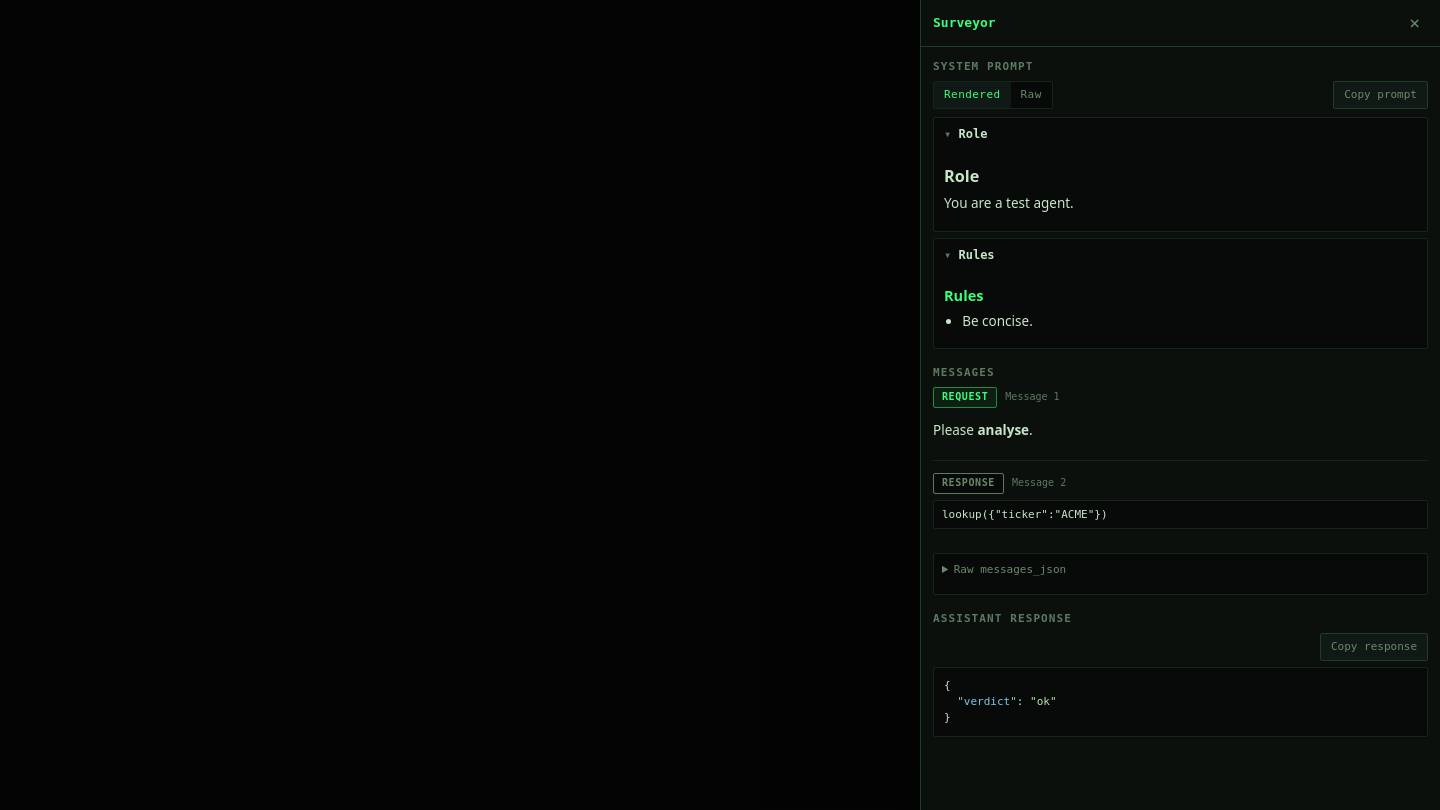
Scenario: AgentPanel › toggles system prompt between rendered sections and raw
Expected: the element with class "system-prompt-details" that starts with "Role" is shown, [933,117,1428,232]
Click the button "Raw": coordinates (1031, 95) [1010,82,1052,108]
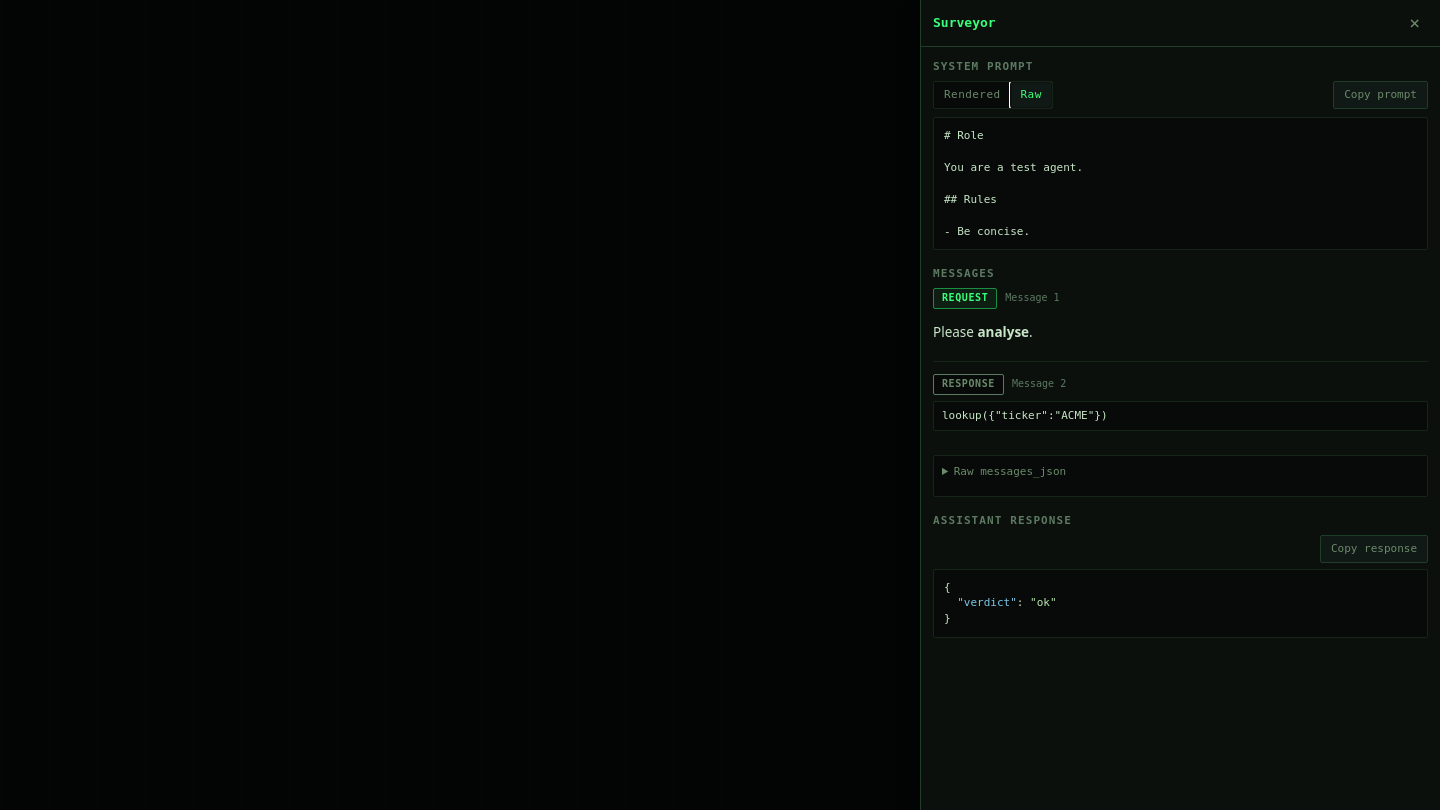
Result: the text "# Role You are a test agent. ## Rules - Be concise." is shown at [933,117,1428,250]
Result: the element with class "system-prompt-details" is gone
Click the button "Rendered": coordinates (972, 95) [934,82,1010,108]
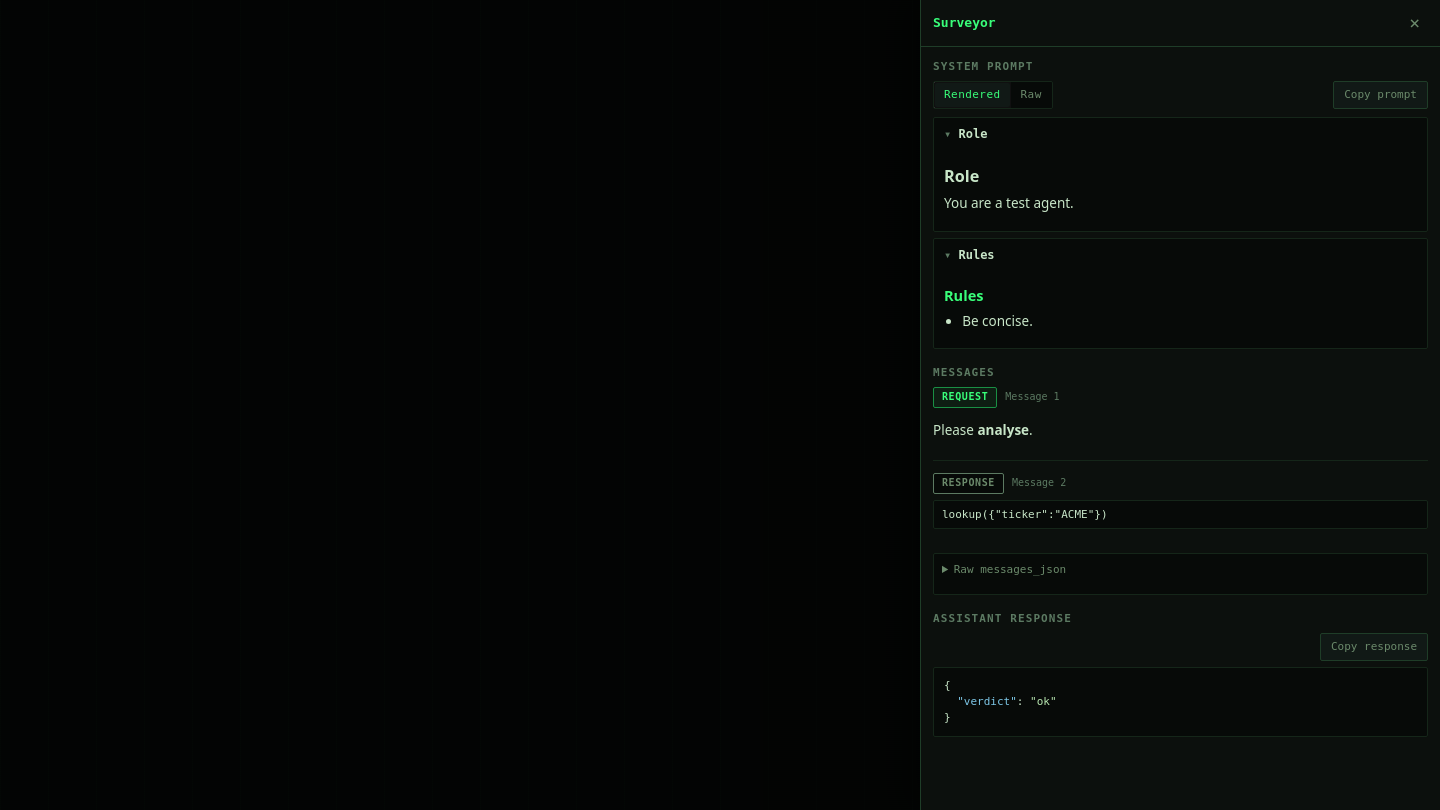
Result: the element with class "system-prompt-details" that starts with "Role" is shown at [933,117,1428,232]
